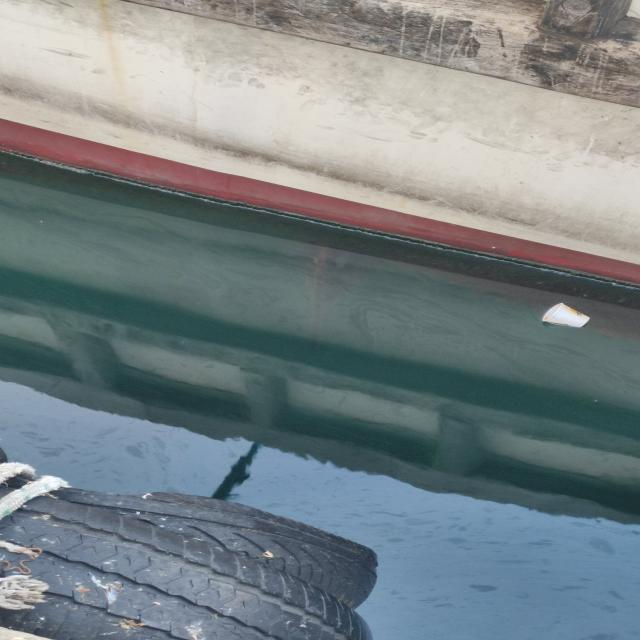Plastic cup: (540, 300, 592, 330)
